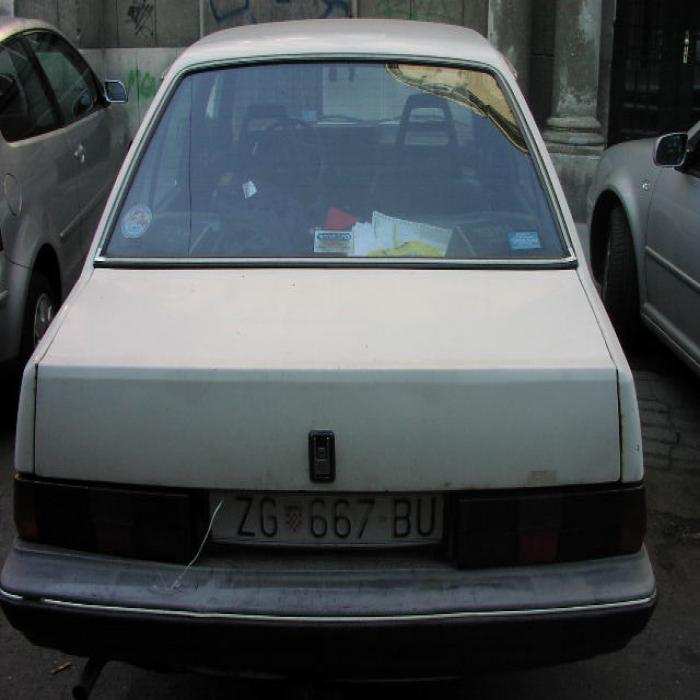number_plate: (211, 492, 440, 540)
